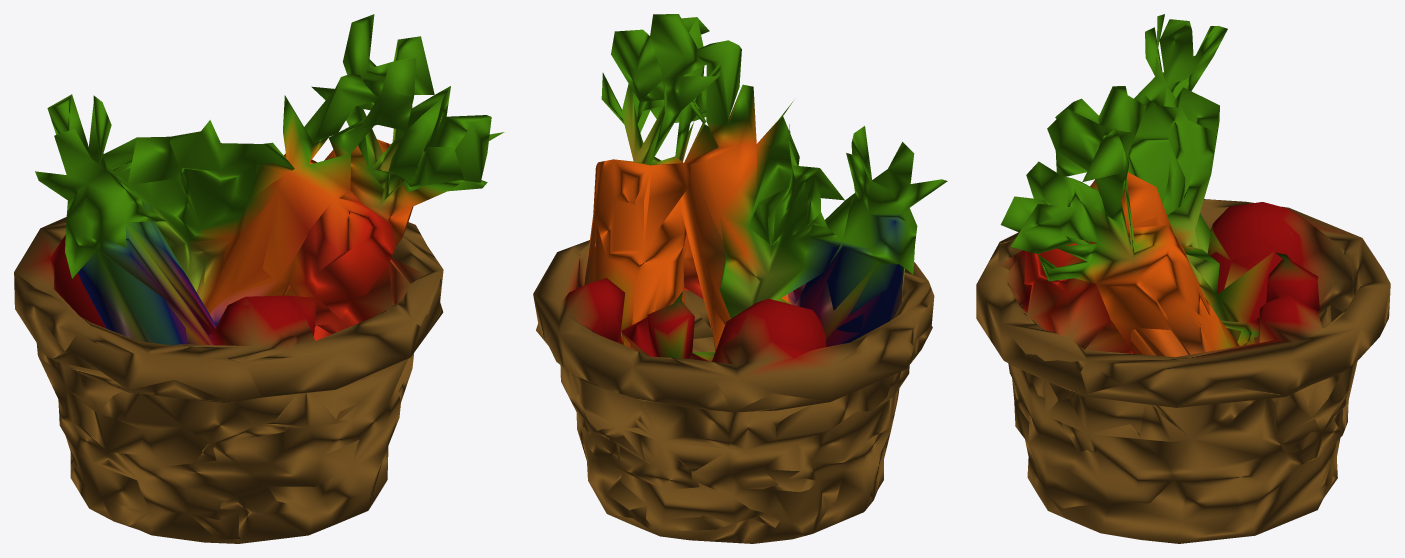
The model's file is gen3d-vegetable-basket-lod0.glb.
3 views of the same model, side by side, from view 1: azimuth 30°, elevation 25°; view 2: azimuth 150°, elevation 25°; view 3: azimuth 270°, elevation 25° (orthographic). The views are drawn at different scales.
Visible parts, largest first — view 1: part_0; view 2: part_0; view 3: part_0.
Part boxes in pixels (x1=…): part_0: x1=14, y1=14, x2=504, y2=543; part_0: x1=533, y1=14, x2=947, y2=543; part_0: x1=976, y1=14, x2=1390, y2=543.
Size of the model in its own units: 0.9517 by 0.9967 by 0.8465.
